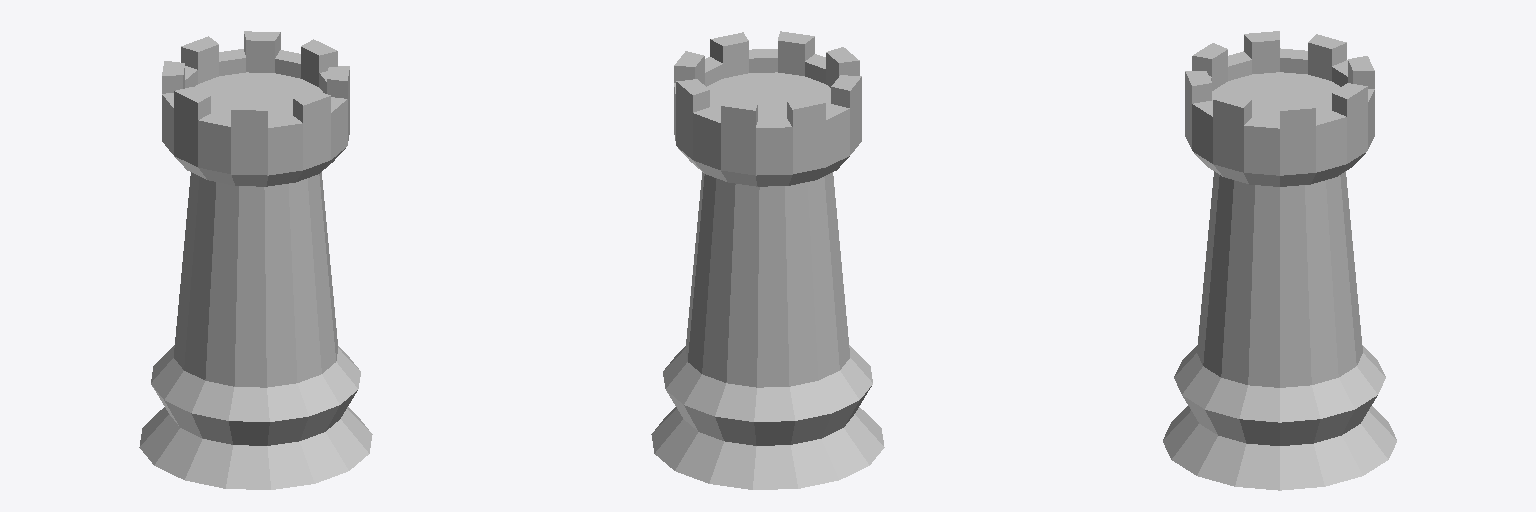
Rendered from rook.obj.
The picture shows the model from 3 angles: view 1: azimuth 30°, elevation 25°; view 2: azimuth 150°, elevation 25°; view 3: azimuth 270°, elevation 25°; orthographic projection.
Visible parts, largest first — view 1: Cylinder.001; view 2: Cylinder.001; view 3: Cylinder.001.
Boxes of the visible parts, x1,y1,x2,y2 form: Cylinder.001: [139, 31, 372, 489]; Cylinder.001: [651, 31, 884, 489]; Cylinder.001: [1163, 31, 1396, 490].
Bounding box in the file's own units: 3.69 × 6.41 × 3.69.